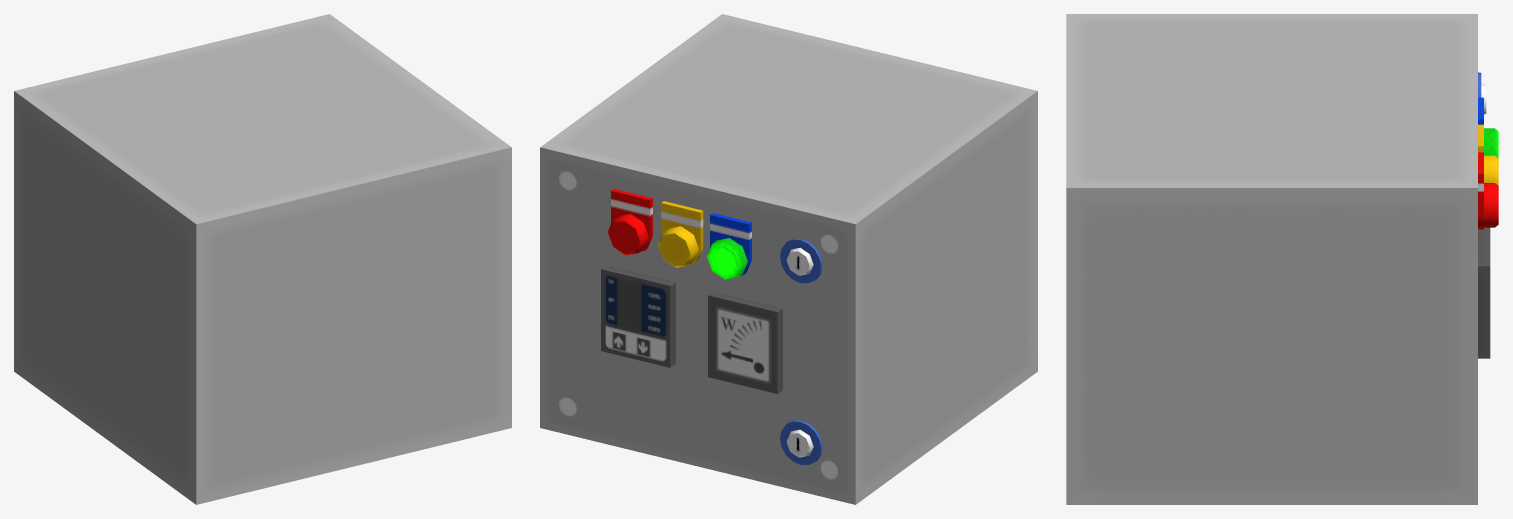
The model's file is Pfb_ElectricControlBox__5.fbx.
The picture shows the model from 3 angles, left to right: view 1: azimuth 30°, elevation 25°; view 2: azimuth 150°, elevation 25°; view 3: azimuth 270°, elevation 25°; orthographic projection. The views are drawn at different scales.
Visible parts, largest first — view 1: MAT_ElectricControlBox; view 2: MAT_ElectricControlBox; view 3: MAT_ElectricControlBox.
Part boxes in pixels (x1,y1,x2,y2): MAT_ElectricControlBox: (14,14,511,504); MAT_ElectricControlBox: (540,14,1037,504); MAT_ElectricControlBox: (1066,14,1498,504).
Size of the model in its own units: 1 by 0.85 by 1.05.
Materials: 1 (1 with a texture image).
